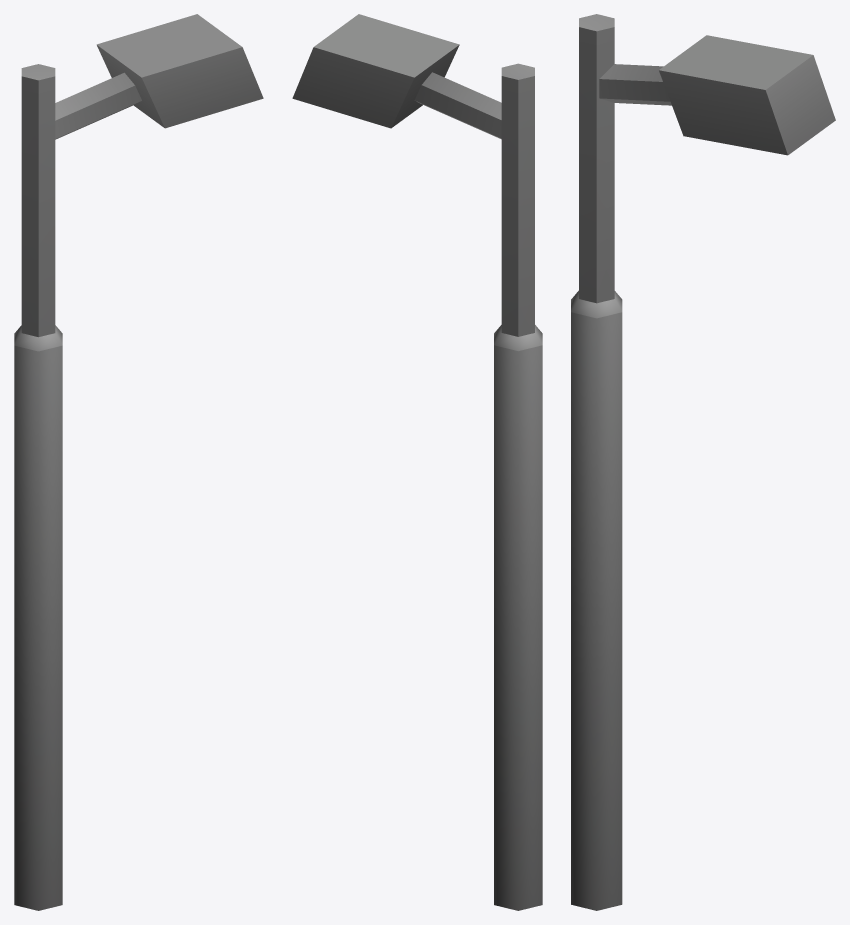
The model's file is Streetlamp.fbx.
3 views of the same model, side by side, from view 1: azimuth 30°, elevation 25°; view 2: azimuth 150°, elevation 25°; view 3: azimuth 330°, elevation 25° (orthographic). The views are drawn at different scales.
Parts seen in each view (by area): view 1: Streetlamp; view 2: Streetlamp; view 3: Streetlamp.
Boxes of the visible parts, left/top/right/bottom form: Streetlamp: left=14, top=14, right=263, bottom=910; Streetlamp: left=292, top=14, right=542, bottom=910; Streetlamp: left=571, top=14, right=835, bottom=910.
Bounding box in the file's own units: 121 × 421 × 41.77.
